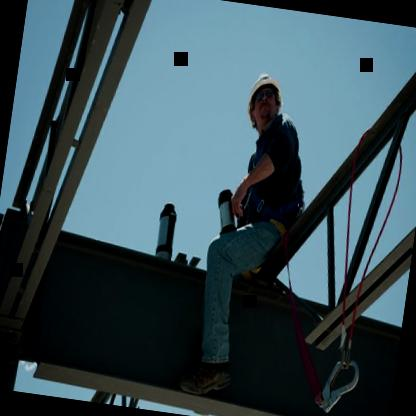helmet: (239, 61, 290, 146)
